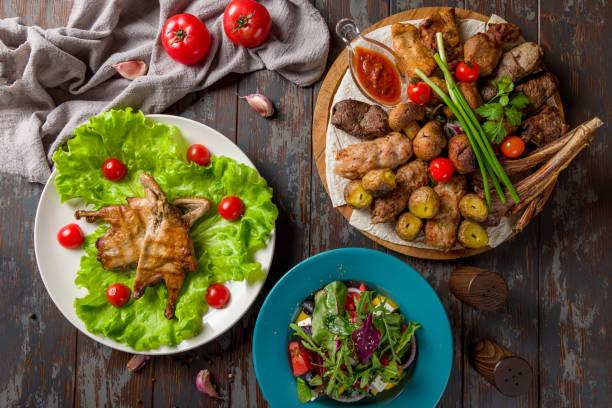Braised Crucian Carp: (314, 7, 570, 259), (33, 112, 273, 354), (253, 247, 451, 407)
